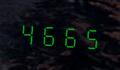five: (78, 21, 97, 52)
four: (18, 17, 37, 48)
six: (58, 19, 77, 51), (38, 18, 57, 49)
